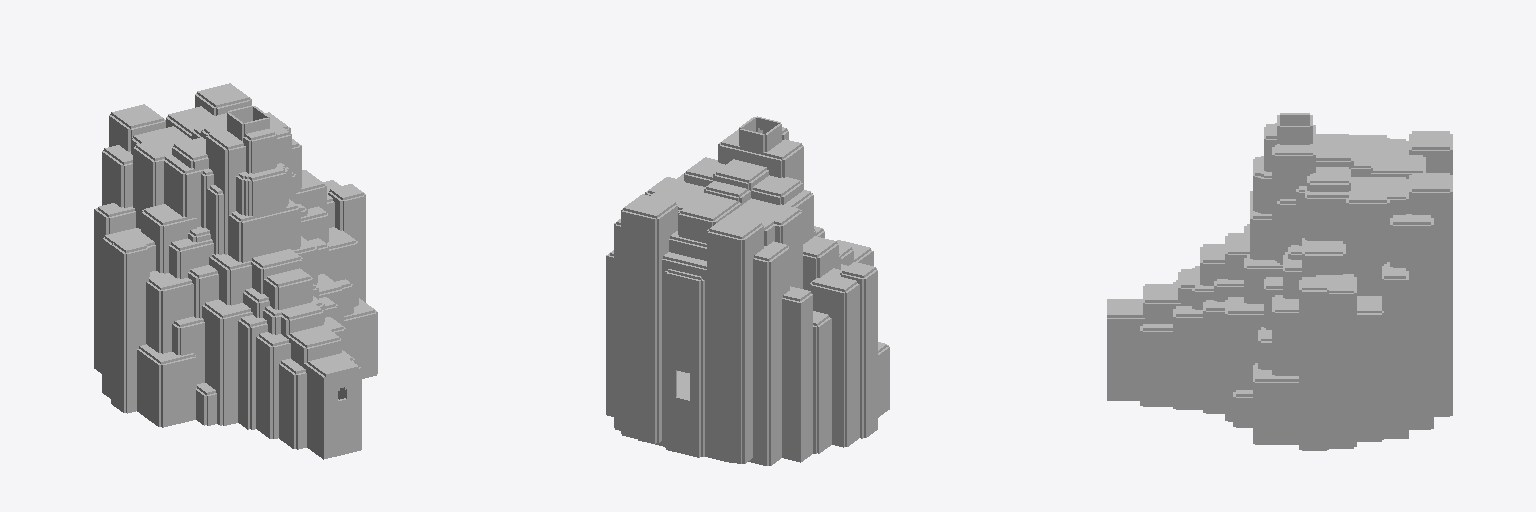
File: 04_mountain_2x.obj
3 renders of one model, left to right at view 1: azimuth 30°, elevation 25°; view 2: azimuth 150°, elevation 25°; view 3: azimuth 270°, elevation 25°, orthographic.
Bounding box in the file's own units: 102 × 109 × 126.